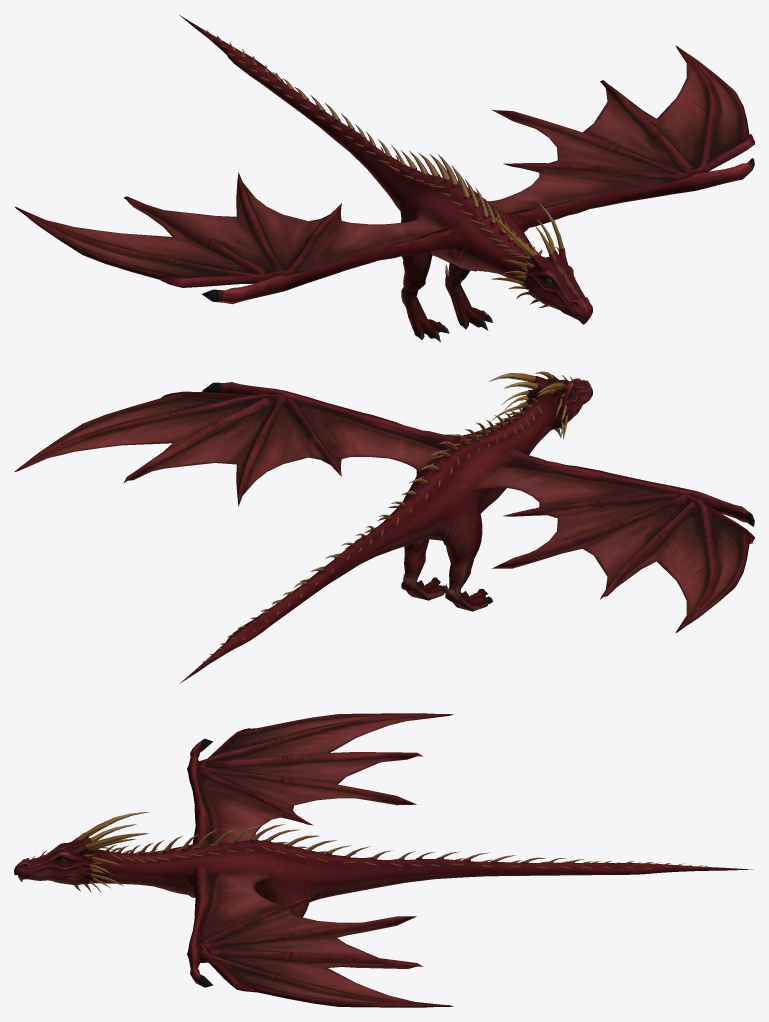
The model's file is chinese_fireball_dragon.glb.
3 renders of one model, top to bottom at view 1: azimuth 30°, elevation 25°; view 2: azimuth 150°, elevation 25°; view 3: azimuth 270°, elevation 25°, orthographic. The views are drawn at different scales.
Parts seen in each view (by area): view 1: Object_4, Object_2, Object_3; view 2: Object_4, Object_2, Object_3; view 3: Object_4, Object_2, Object_3.
Part boxes in pixels (x1,y1,x2,y2): Object_4: (14, 45, 754, 304); Object_2: (179, 15, 580, 316); Object_3: (401, 201, 592, 342); Object_4: (14, 382, 754, 633); Object_2: (179, 386, 592, 683); Object_3: (401, 371, 592, 611); Object_4: (182, 713, 453, 1007); Object_2: (113, 835, 753, 898); Object_3: (14, 812, 149, 892).
Size of the model in its own units: 18.66 by 4.44 by 19.97.
4 materials, 4 textured.
